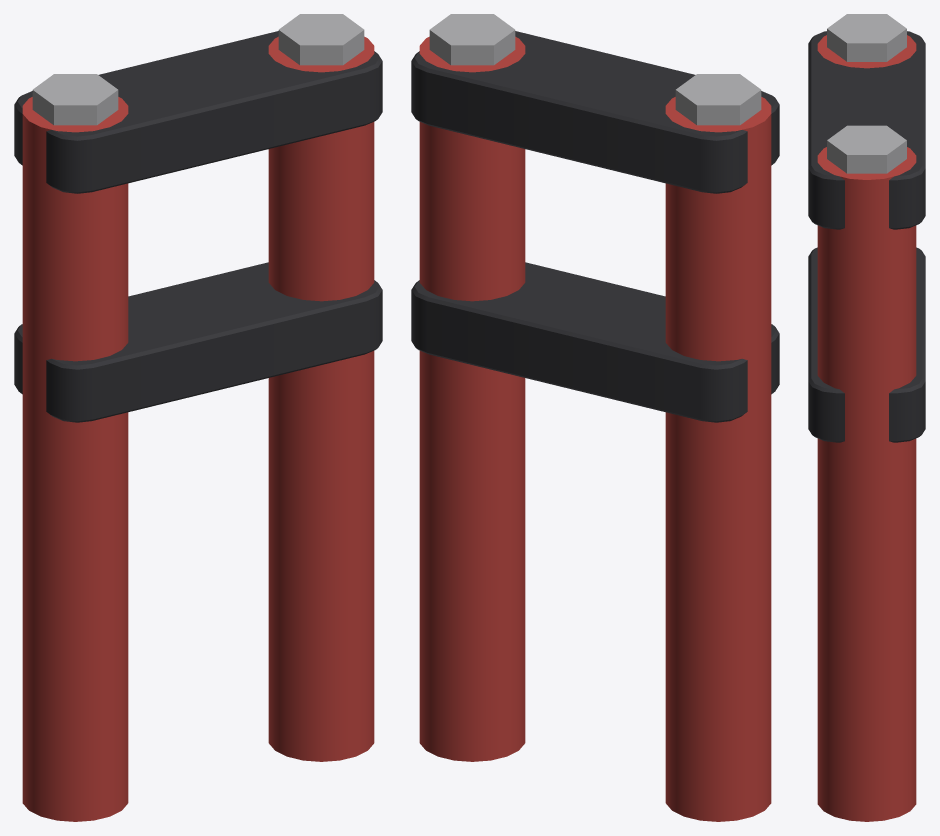
Rendered from sm_black_usd_upper.glb.
3 views of the same model, side by side, from view 1: azimuth 30°, elevation 25°; view 2: azimuth 150°, elevation 25°; view 3: azimuth 270°, elevation 25° (orthographic). The views are drawn at different scales.
Visible parts, largest first — view 1: lod0; view 2: lod0; view 3: lod0.
Boxes of the visible parts, x1,y1,x2,y2 form: lod0: (14, 14, 382, 821); lod0: (411, 14, 779, 821); lod0: (808, 14, 925, 821).
Size of what is drawn, in the model's own units: 0.248 by 0.496 by 0.08.
